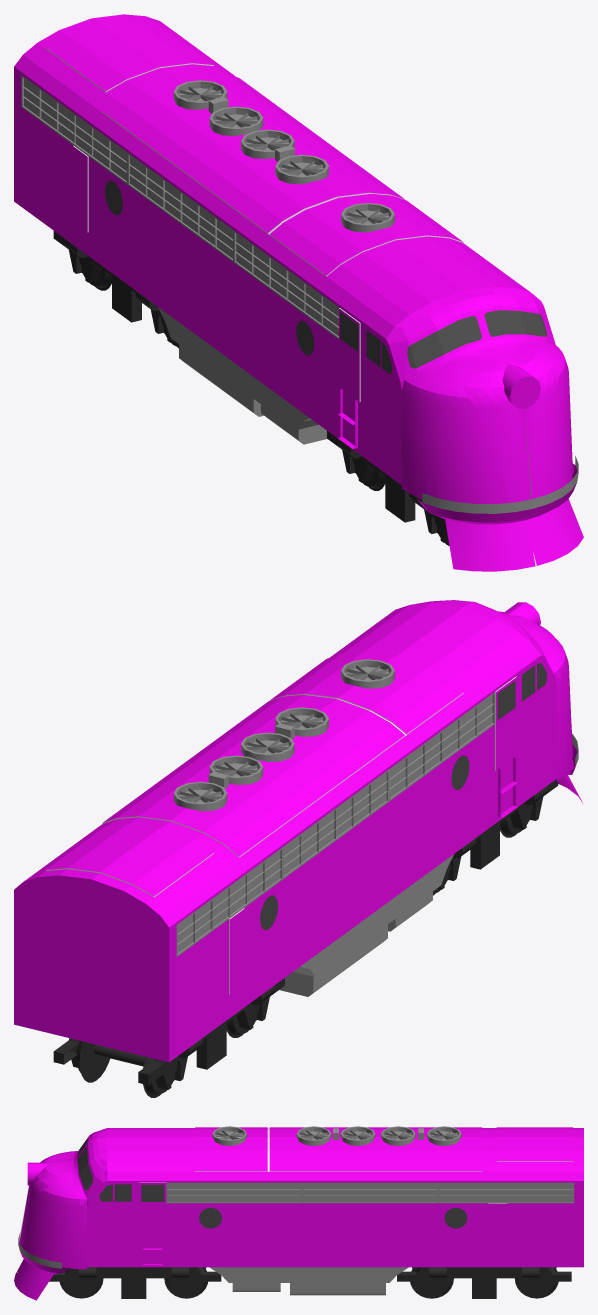
3 views of the same model, one above another, from view 1: azimuth 30°, elevation 25°; view 2: azimuth 150°, elevation 25°; view 3: azimuth 270°, elevation 25° (orthographic). The views are drawn at different scales.
Visible parts, largest first — view 1: body_half (×17), side-grid (×3), bogie-mechanism-half (×4); view 2: body_half (×12), side-grid (×3), bogie-mechanism-half (×4), fan (×3), wheel_half; view 3: body_half (×20), side-grid (×6), bogie-mechanism-half (×4), fan (×5), wheel_half (×2).
Part boxes in pixels (x1,y1,x2,y2): body_half (×17): [14, 14, 583, 571]; side-grid (×3): [22, 77, 338, 337]; bogie-mechanism-half (×4): [53, 231, 448, 542]; body_half (×12): [14, 600, 572, 1062]; side-grid (×3): [177, 694, 494, 954]; bogie-mechanism-half (×4): [138, 779, 558, 1089]; fan (×3): [173, 659, 394, 811]; wheel_half: [76, 1041, 108, 1079]; body_half (×20): [14, 1127, 583, 1300]; side-grid (×6): [166, 1182, 574, 1203]; bogie-mechanism-half (×4): [49, 1267, 571, 1298]; fan (×5): [212, 1126, 461, 1145]; wheel_half (×2): [166, 1267, 556, 1296].
Bounding box in the file's own units: 126 × 586 × 179.
